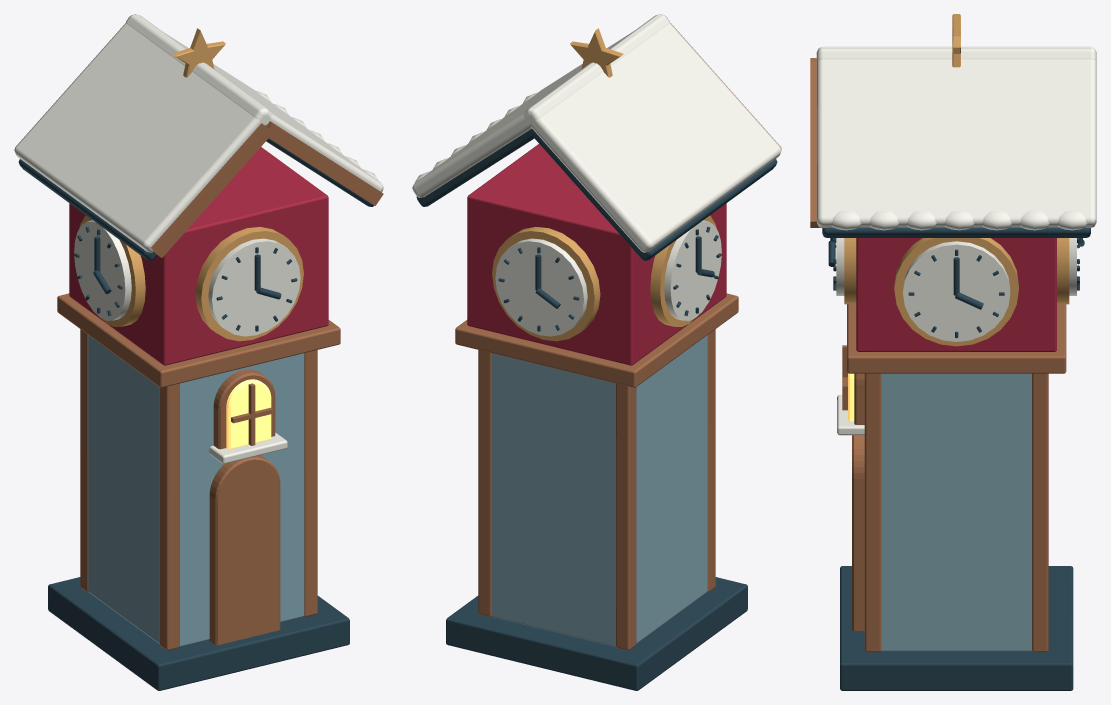
File: clocktower.glb
3 renders of one model, left to right at view 1: azimuth 30°, elevation 25°; view 2: azimuth 150°, elevation 25°; view 3: azimuth 270°, elevation 25°, orthographic. The views are drawn at different scales.
Parts seen in each view (by area): view 1: christmas-clocktower; view 2: christmas-clocktower; view 3: christmas-clocktower.
Part boxes in pixels (<box>): christmas-clocktower: <box>14,14,383,690</box>; christmas-clocktower: <box>412,14,781,690</box>; christmas-clocktower: <box>810,14,1096,690</box>.
Bounding box in the file's own units: 2.1 × 4.9 × 2.03.
